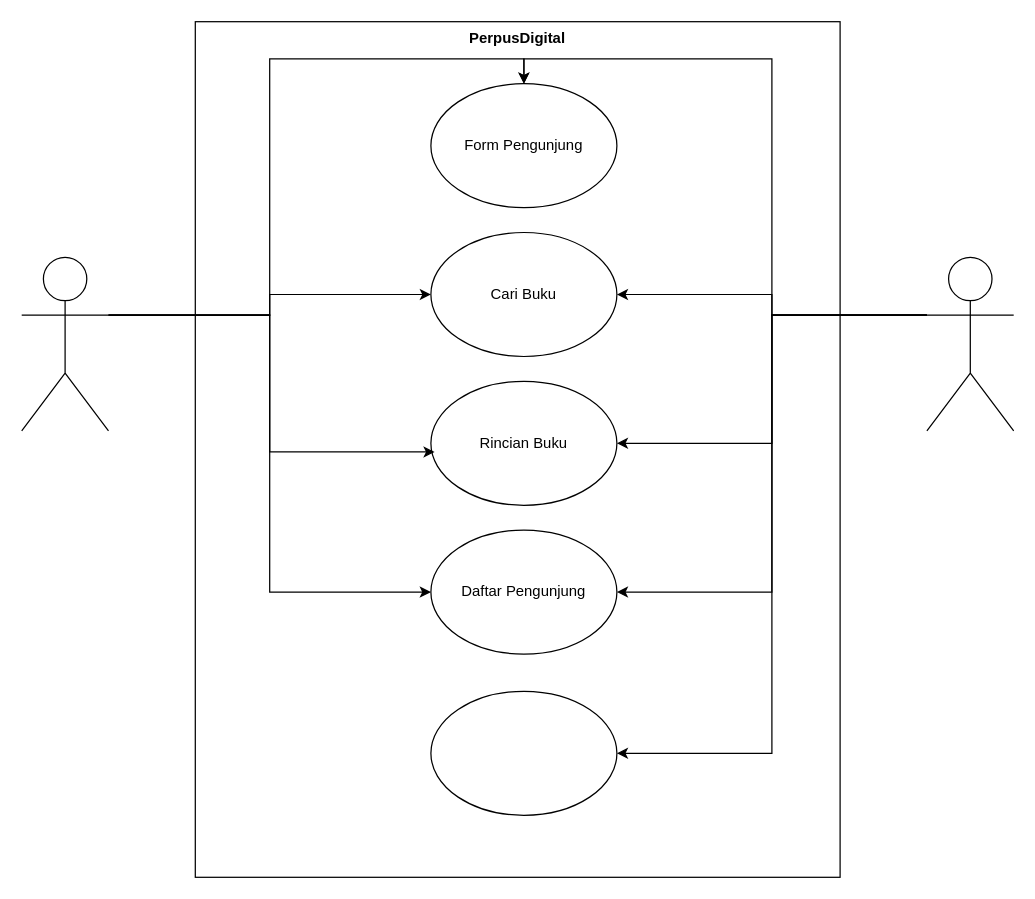
This 1035x899 diagram has some shape labels left out. The centre of each missing label's shape, as x and y in pixels:
"Pengunjung" belongs at [64,343].
"Pustakawan" belongs at [970,343].
"Statistik Pengunjung" belongs at [523,752].
